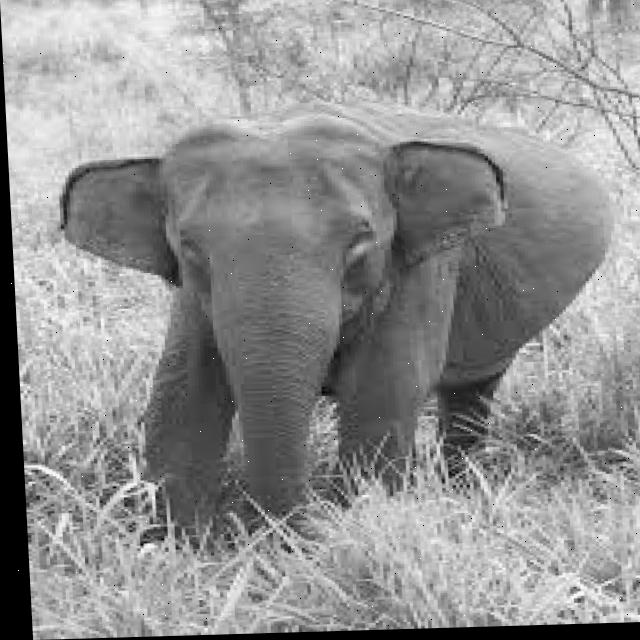Elephant: (51, 89, 631, 560)
